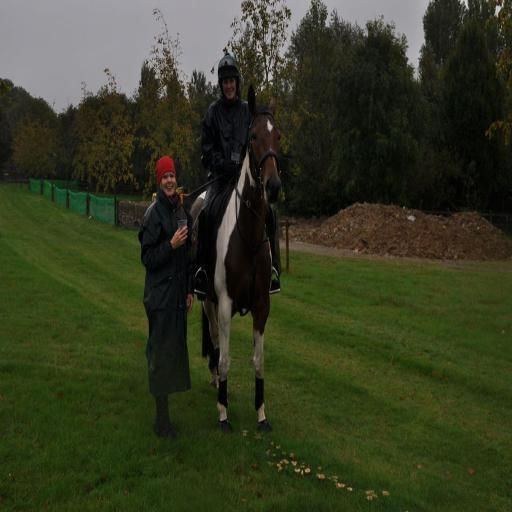horse: (188, 82, 284, 433)
